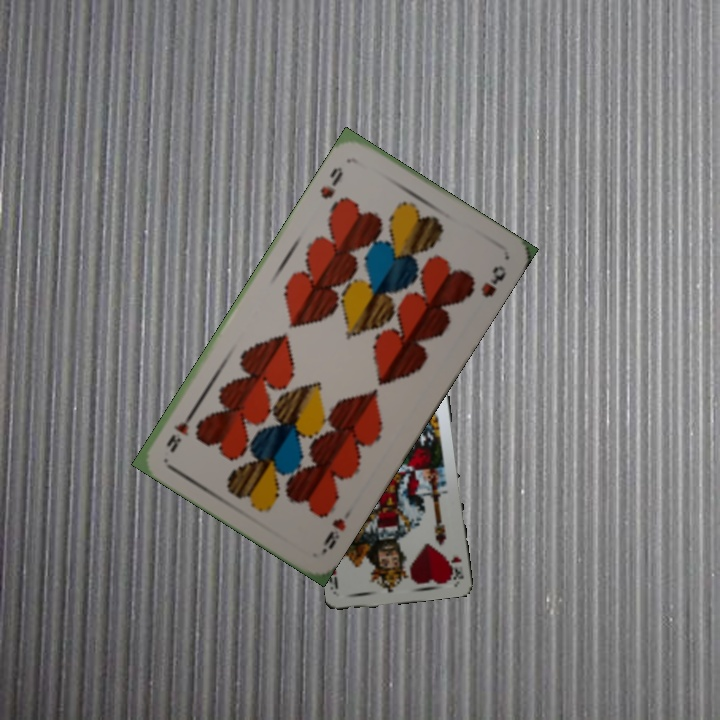H9: (317, 513, 349, 556), (316, 162, 346, 202)
HK: (445, 552, 466, 581)
